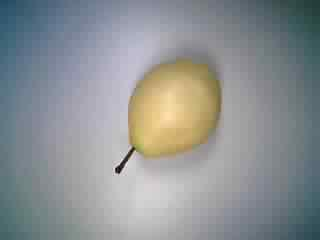pear: (110, 51, 228, 182)
